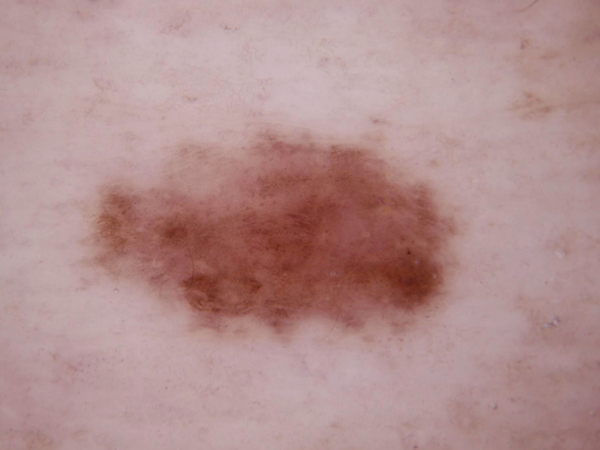Detected Lesion: (79, 125, 462, 340)
